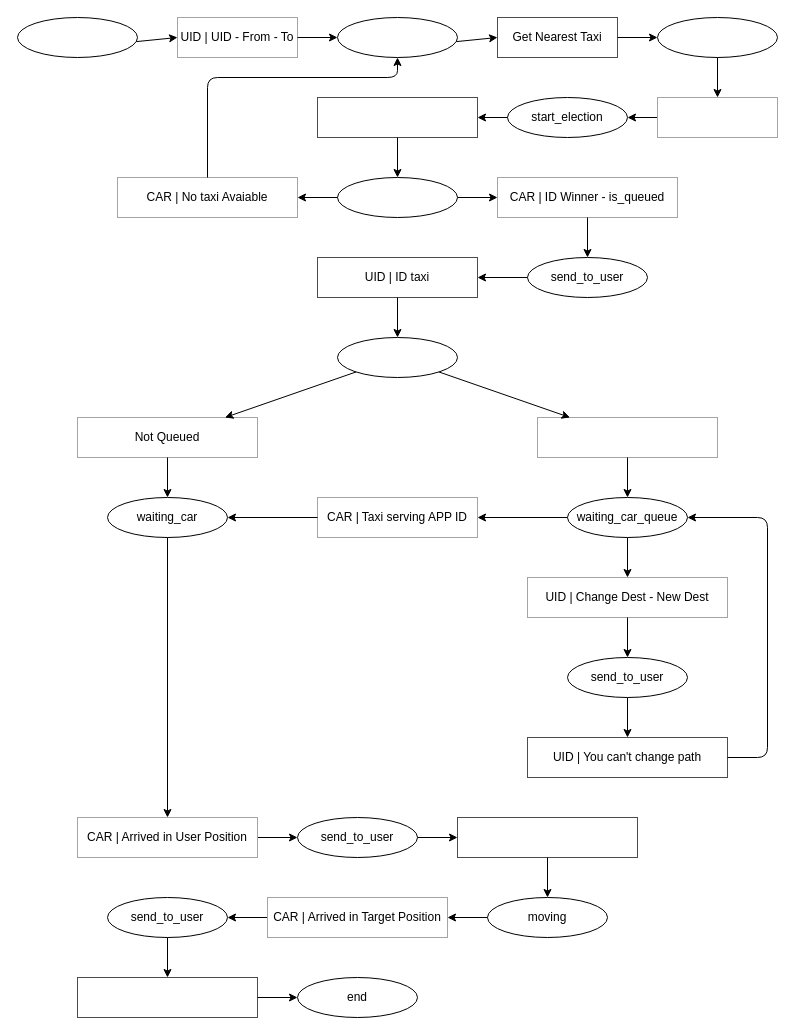
The diagram is 795 pixels wide and 1035 high, and some of its shapes have lost their labels. Each missing label, with the centre of its shape:
begin_election: (x=397, y=37)
CAR | Begin Election User: (x=397, y=117)
check_queue: (x=397, y=357)
GPS | ID nearest Taxi: (x=717, y=117)
idle: (x=77, y=37)
Queued: (x=627, y=437)
UID | Arrived in Target Position: (x=167, y=997)
UID | Arrived in User Position: (x=547, y=837)
wait_gps: (x=717, y=37)
waiting_election: (x=397, y=197)
